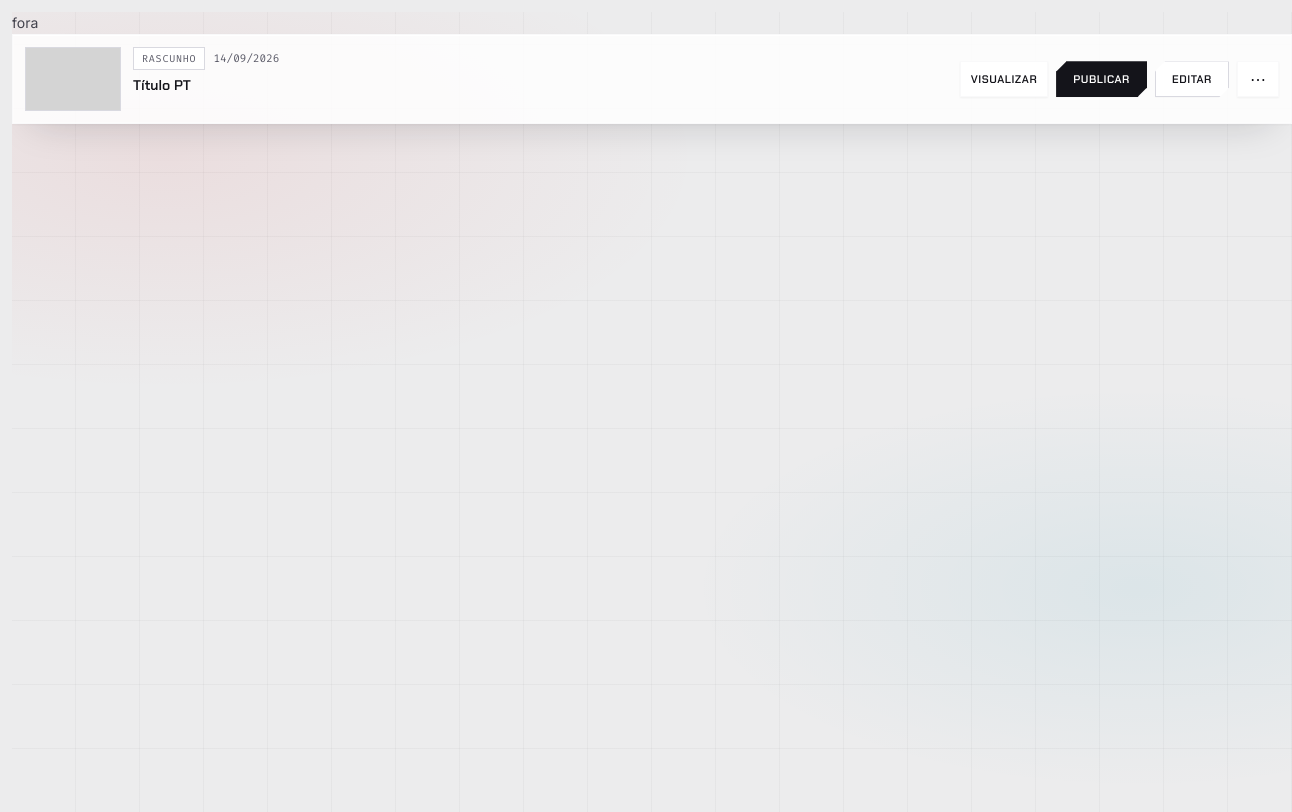
Test: menu "mais ações" › clicar fora fecha o menu
This screenshot has width=1292, height=812.
What coordinates should you click on to do the following:
click the button named "mais ações"
I would click on:
 (1258, 79)
Its box is top-left (1237, 61), bottom-right (1279, 97).
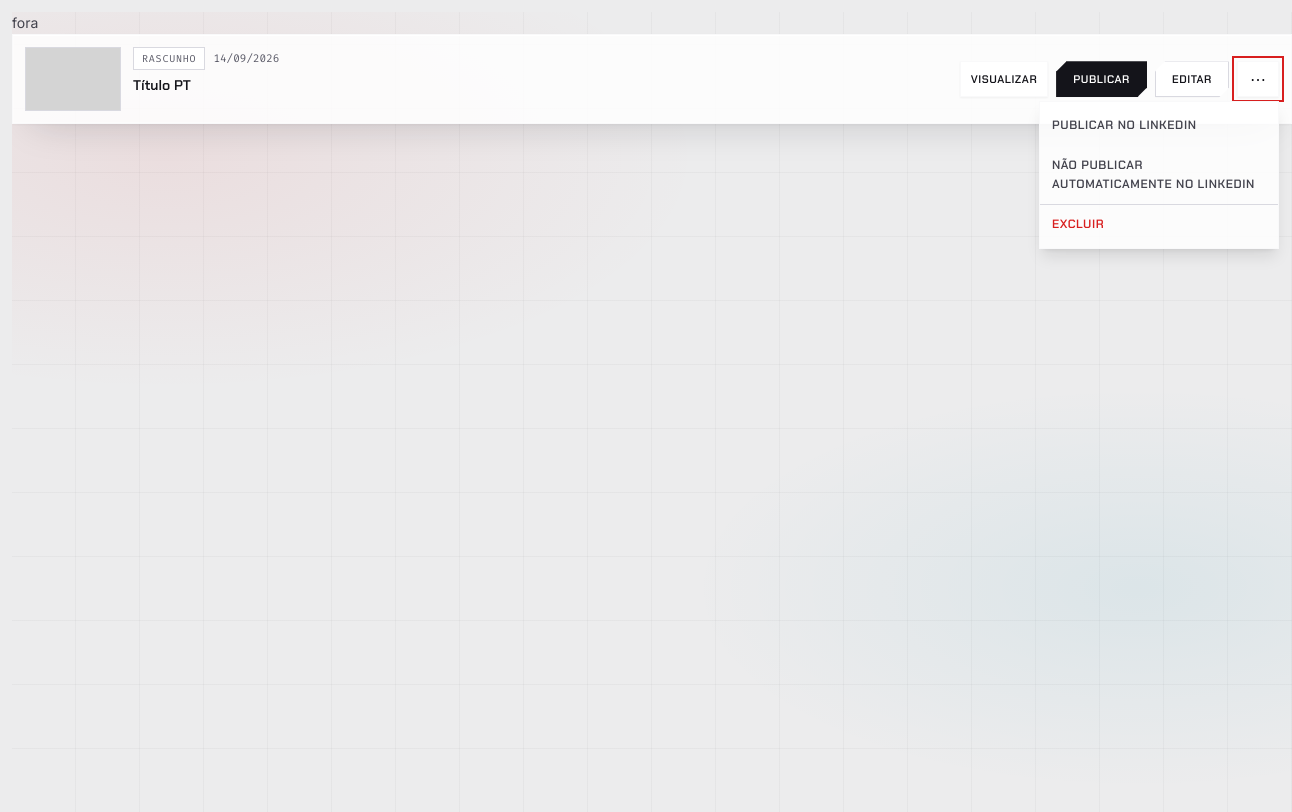
What coordinates should you click on to do the following:
click the text "fora"
I would click on:
 (25, 22)
Its box is top-left (12, 14), bottom-right (38, 31).
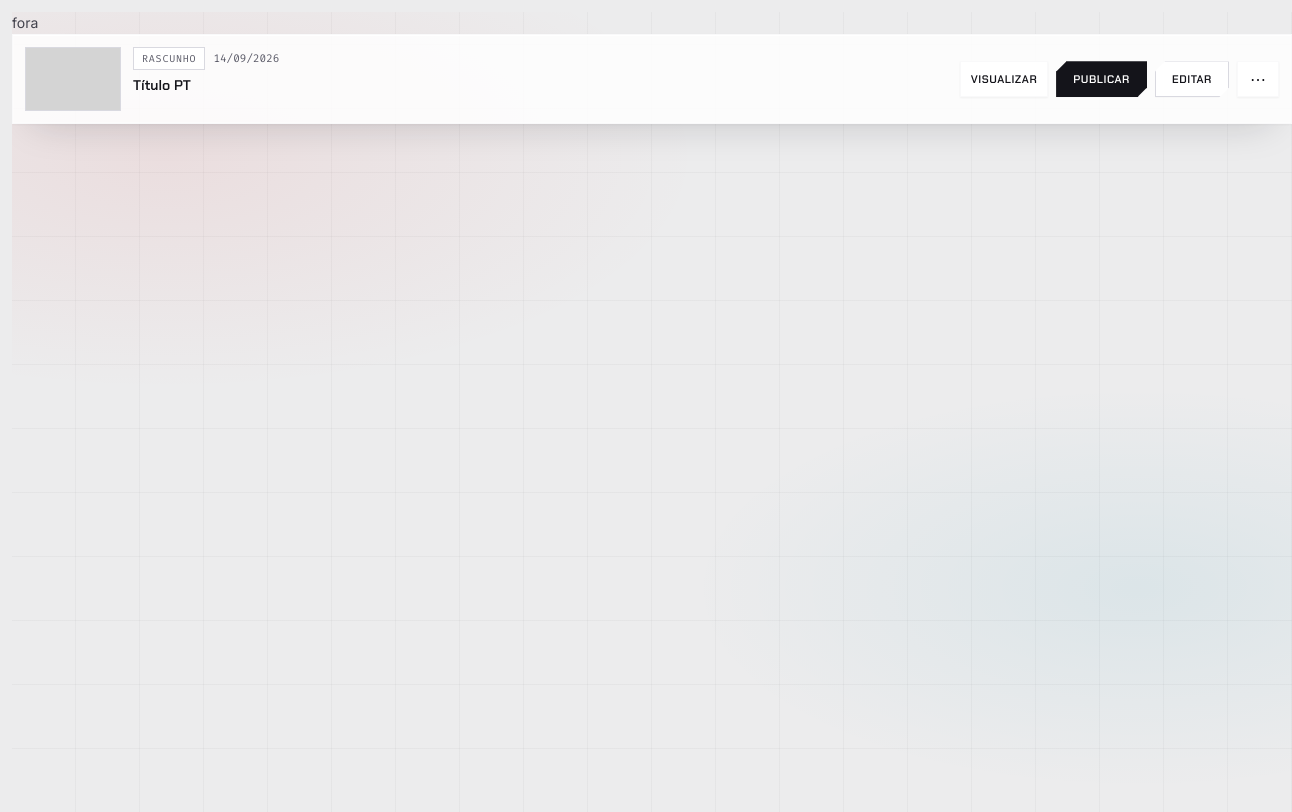
Check: the menu is gone
